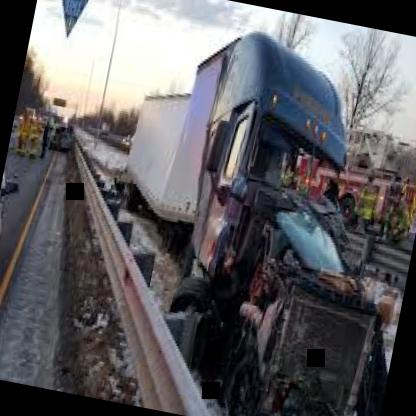accident: (40, 2, 416, 416)
